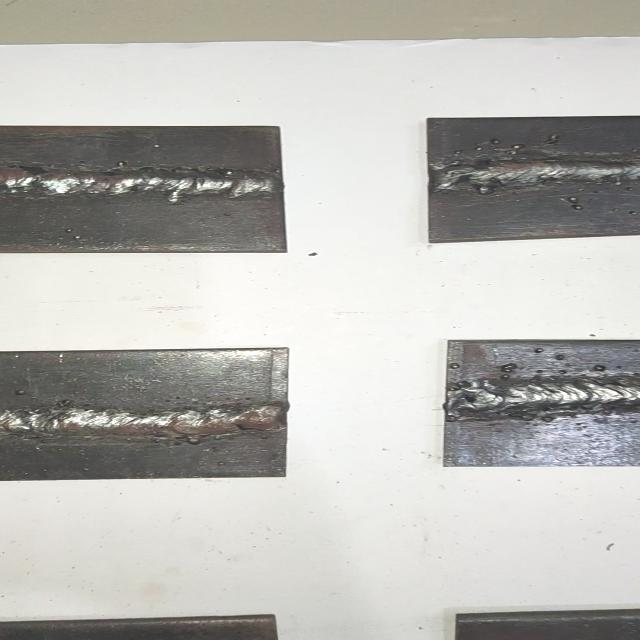Good Weld: (2, 406, 284, 436), (451, 381, 640, 421), (0, 171, 276, 196), (440, 157, 640, 191)
